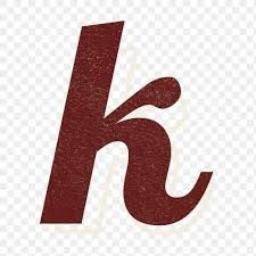k: (34, 14, 218, 230)
